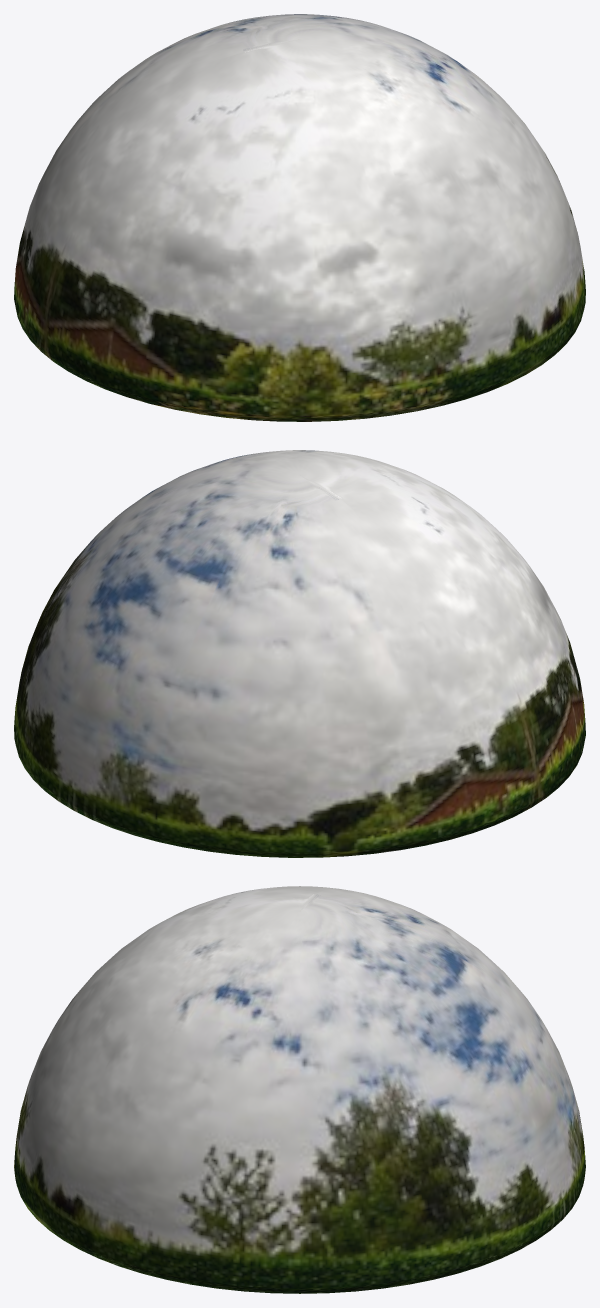
Rendered from panorama_half2.fbx.
The picture shows the model from 3 angles, top to bottom: view 1: azimuth 30°, elevation 25°; view 2: azimuth 150°, elevation 25°; view 3: azimuth 270°, elevation 25°; orthographic projection.
Parts seen in each view (by area): view 1: Sphere.004; view 2: Sphere.004; view 3: Sphere.004.
Boxes of the visible parts, x1=… form: Sphere.004: x1=14, y1=14, x2=585, y2=421; Sphere.004: x1=14, y1=450, x2=585, y2=857; Sphere.004: x1=14, y1=886, x2=585, y2=1293.
Size of the model in its own units: 198 by 100 by 198.
